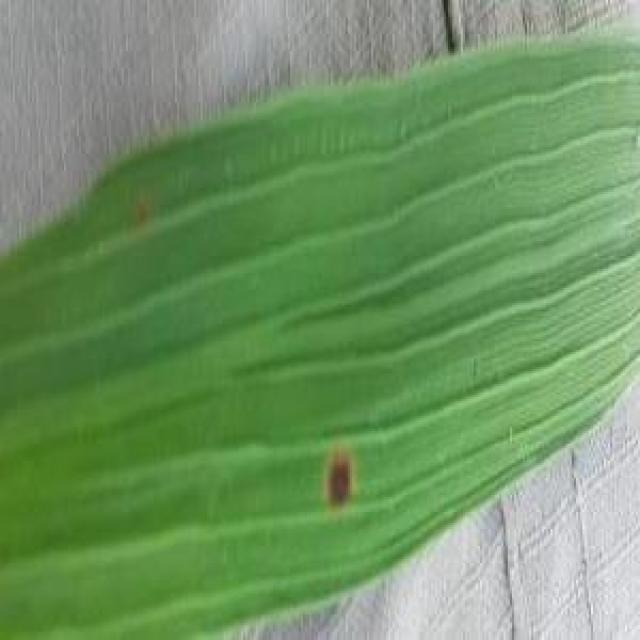brownspots: (311, 446, 384, 510)
